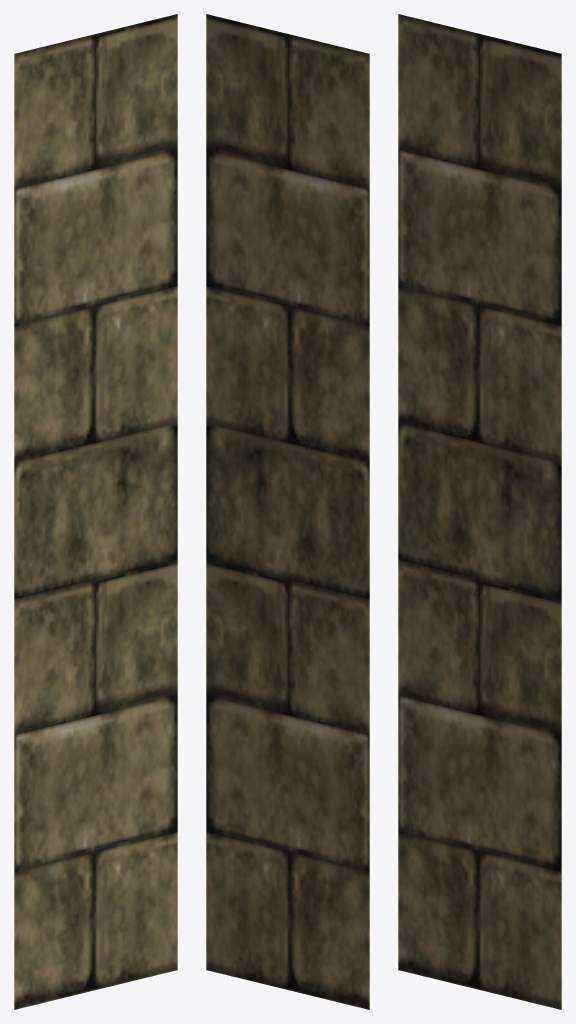
The model's file is OVERHILL_A_01_OBJECT144.fbx.
The picture shows the model from 3 angles, left to right: view 1: azimuth 30°, elevation 25°; view 2: azimuth 150°, elevation 25°; view 3: azimuth 330°, elevation 25°; orthographic projection.
Parts seen in each view (by area): view 1: OVERHILL_A_01_OBJECT144; view 2: OVERHILL_A_01_OBJECT144; view 3: OVERHILL_A_01_OBJECT144.
Boxes of the visible parts, x1=… form: OVERHILL_A_01_OBJECT144: x1=14, y1=14, x2=177, y2=1009; OVERHILL_A_01_OBJECT144: x1=206, y1=14, x2=369, y2=1009; OVERHILL_A_01_OBJECT144: x1=398, y1=14, x2=561, y2=1009.
Bounding box in the file's own units: 9935 × 55514 × 0.00904.
Materials: 1 (1 with a texture image).
